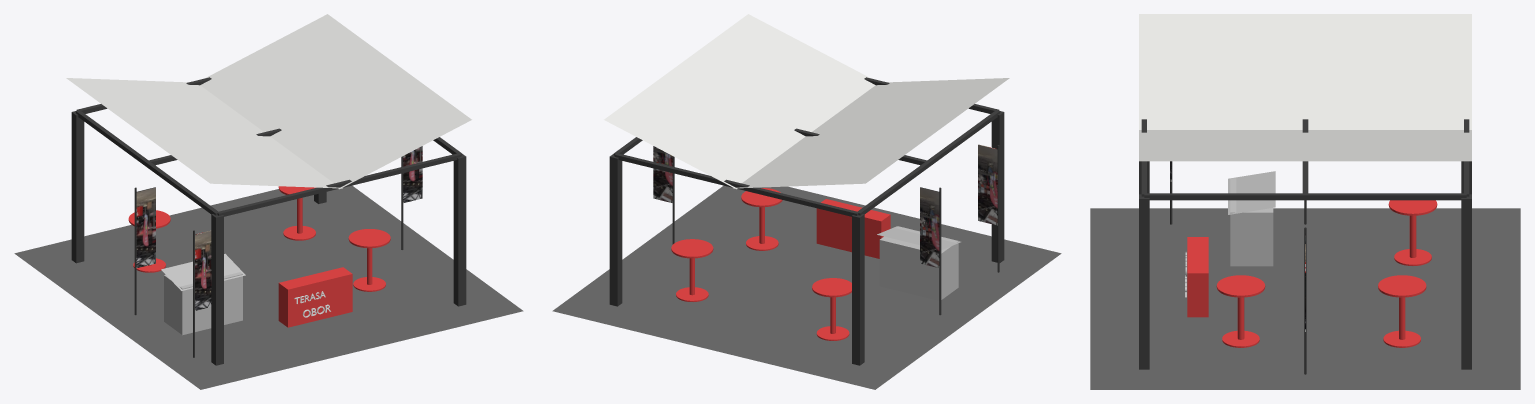
File: terasa_obor.glb
3 renders of one model, left to right at view 1: azimuth 30°, elevation 25°; view 2: azimuth 150°, elevation 25°; view 3: azimuth 270°, elevation 25°, orthographic. The views are drawn at different scales.
Visible parts, largest first — view 1: Terasa_Obor; view 2: Terasa_Obor; view 3: Terasa_Obor.
Boxes of the visible parts, bbox=[...] form: Terasa_Obor: bbox=[14, 14, 523, 389]; Terasa_Obor: bbox=[552, 14, 1061, 389]; Terasa_Obor: bbox=[1090, 14, 1520, 389].
Bounding box in the file's own units: 8 × 4.34 × 8.
8 materials, 1 textured.
